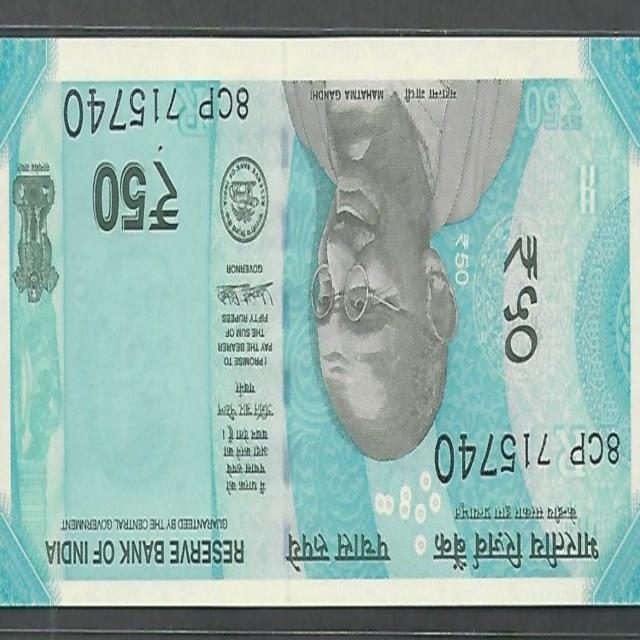50IndianRupees: (0, 40, 640, 601)
